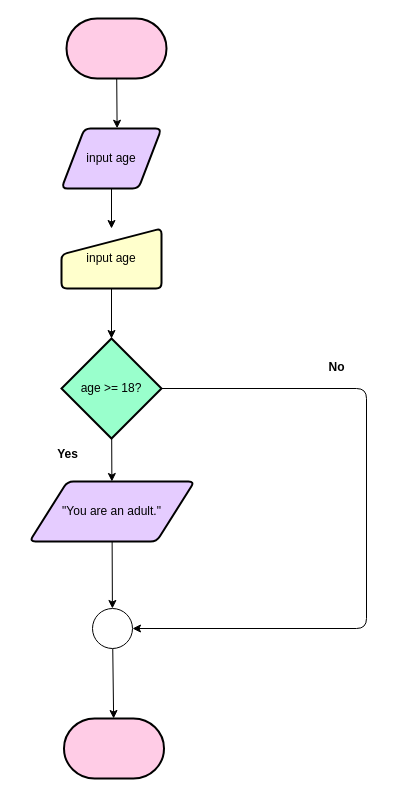
Image size: 403x796. Some labels were removed from this diagram. Each missing label, with the box of its shape:
Start: (65, 17, 167, 79)
Stop: (62, 717, 164, 779)
